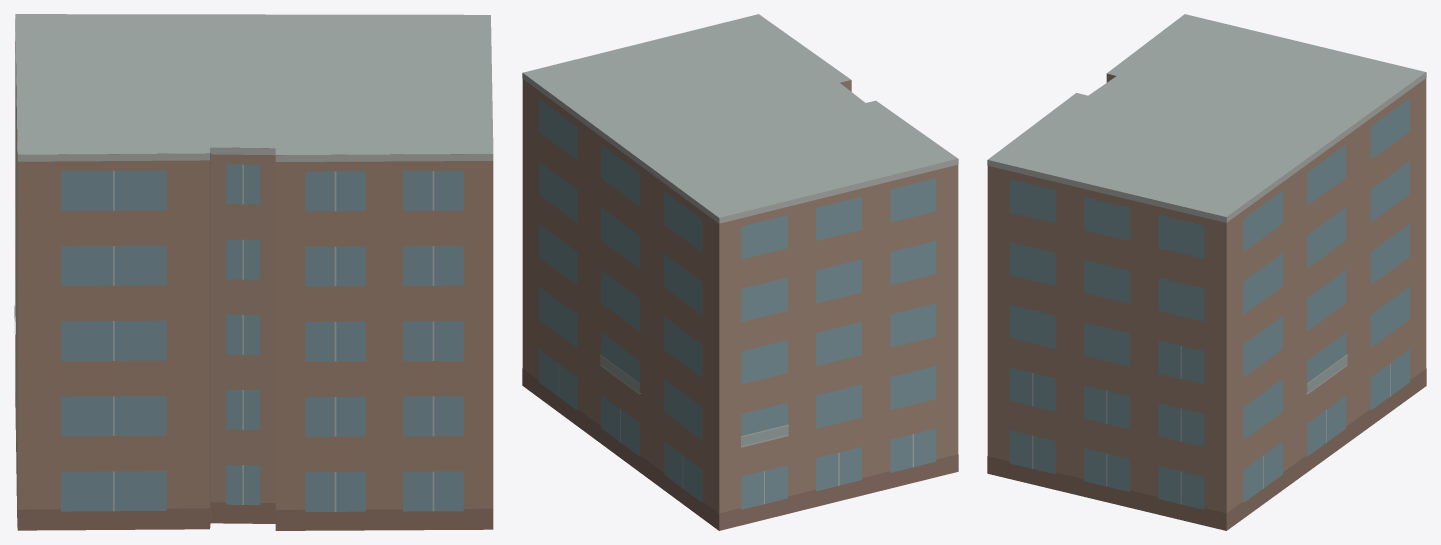
File: survey-upis-32738024.glb
3 renders of one model, left to right at view 1: azimuth 30°, elevation 25°; view 2: azimuth 150°, elevation 25°; view 3: azimuth 270°, elevation 25°, orthographic. The views are drawn at different scales.
Parts seen in each view (by area): view 1: survey-upis-32738024.tmp; view 2: survey-upis-32738024.tmp; view 3: survey-upis-32738024.tmp.
Boxes of the visible parts, left/top/right/bottom form: survey-upis-32738024.tmp: left=14, top=14, right=493, bottom=530; survey-upis-32738024.tmp: left=522, top=14, right=958, bottom=530; survey-upis-32738024.tmp: left=987, top=14, right=1426, bottom=530.
Size of the model in its own units: 18.19 by 13.1 by 16.62.
